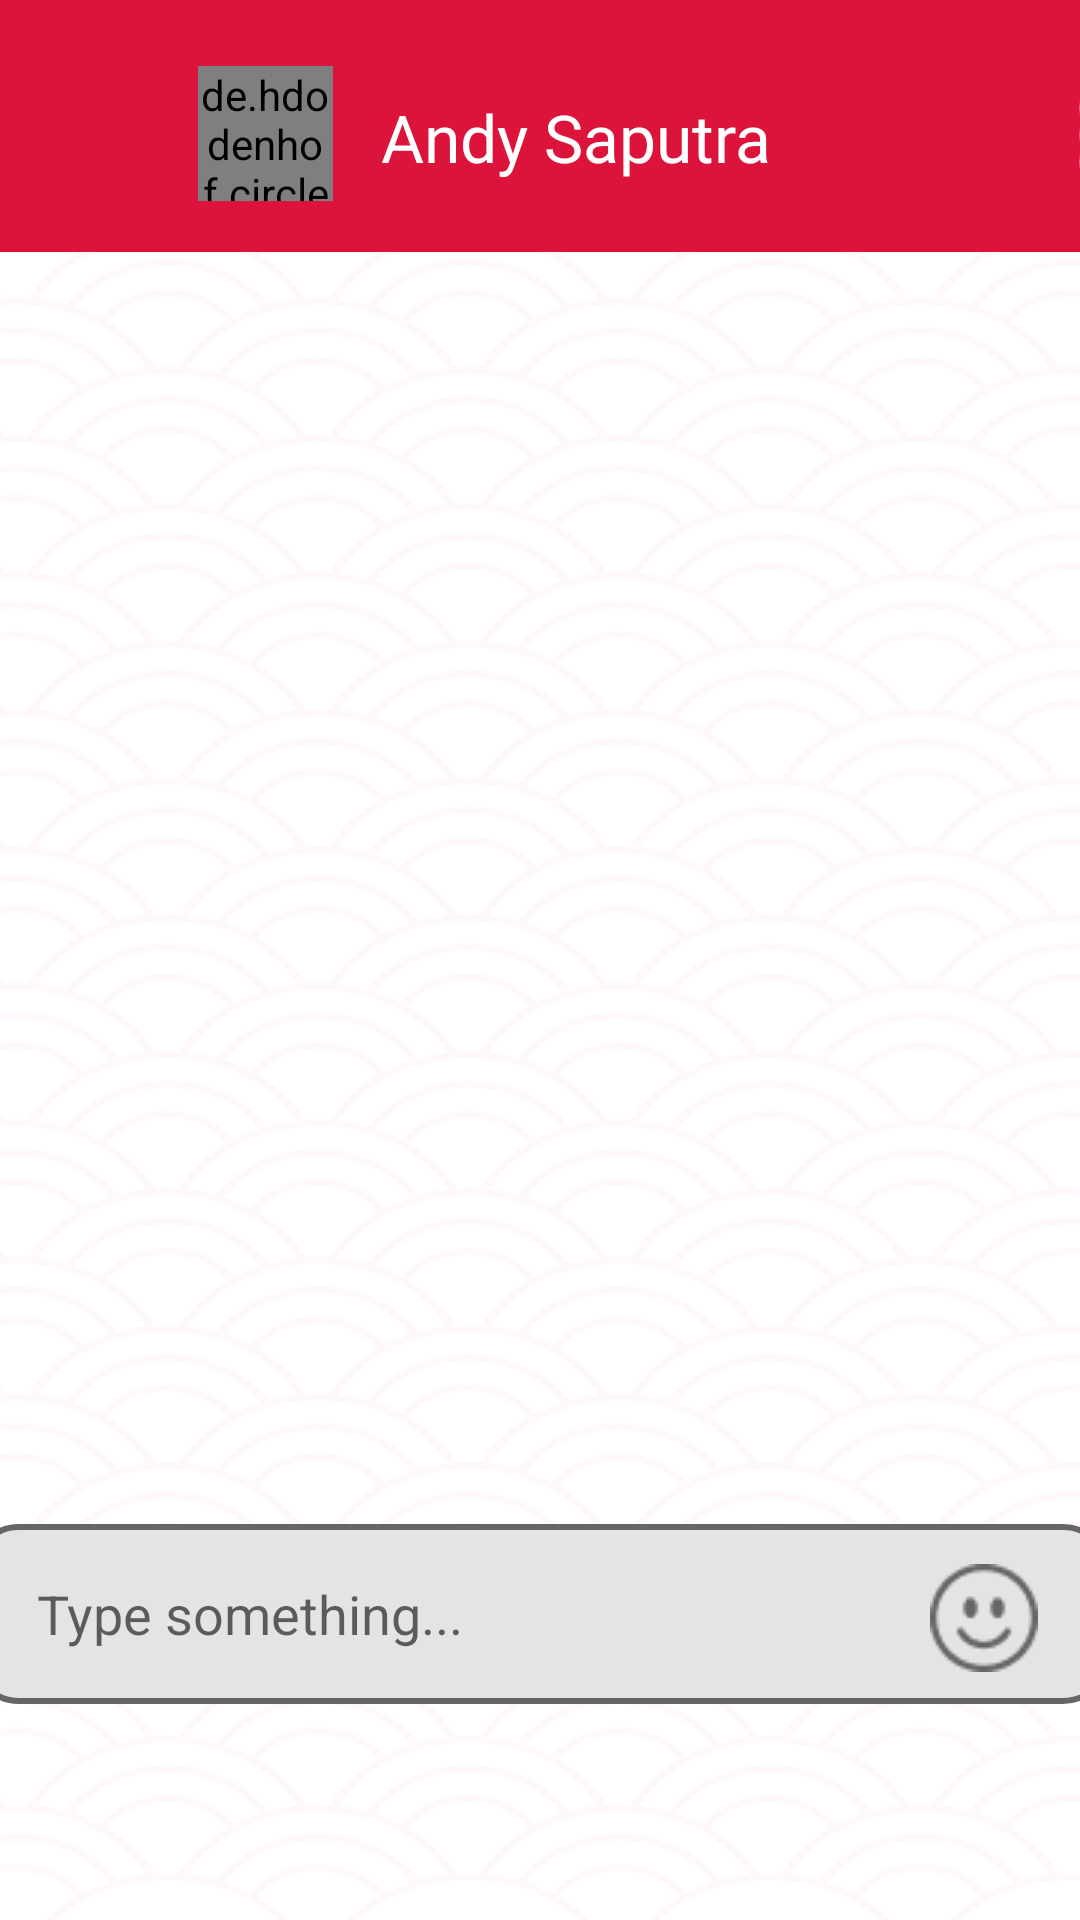

Icon click points for this 1080px×1920px phone screenshot, format (x,y):
emot: (984,1618)
